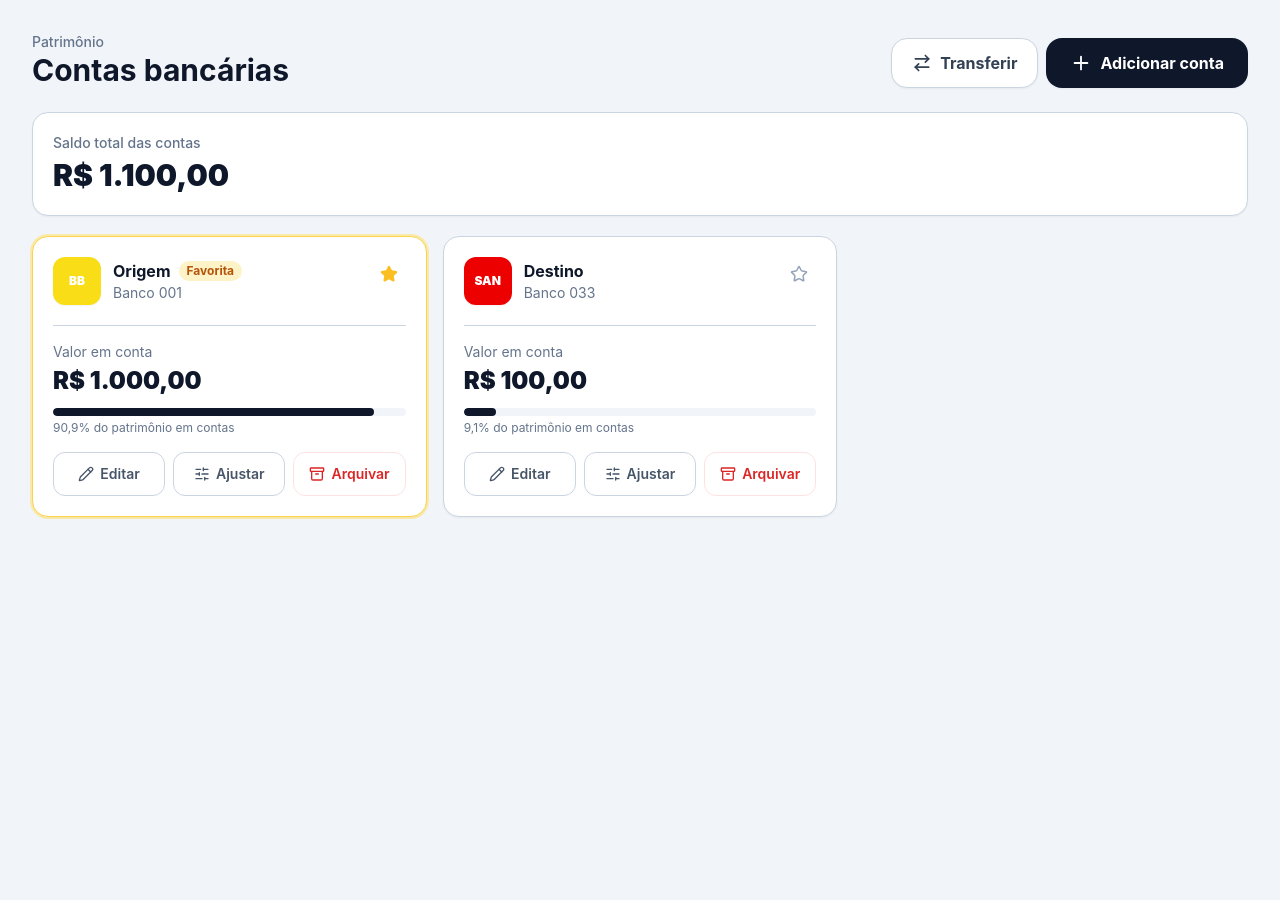
it: AccountsPage › mostra a mensagem do backend quando o saldo e insuficiente
The image size is (1280, 900).
Click the button "Transferir" at (965, 63), box left=891, top=38, right=1038, bottom=88
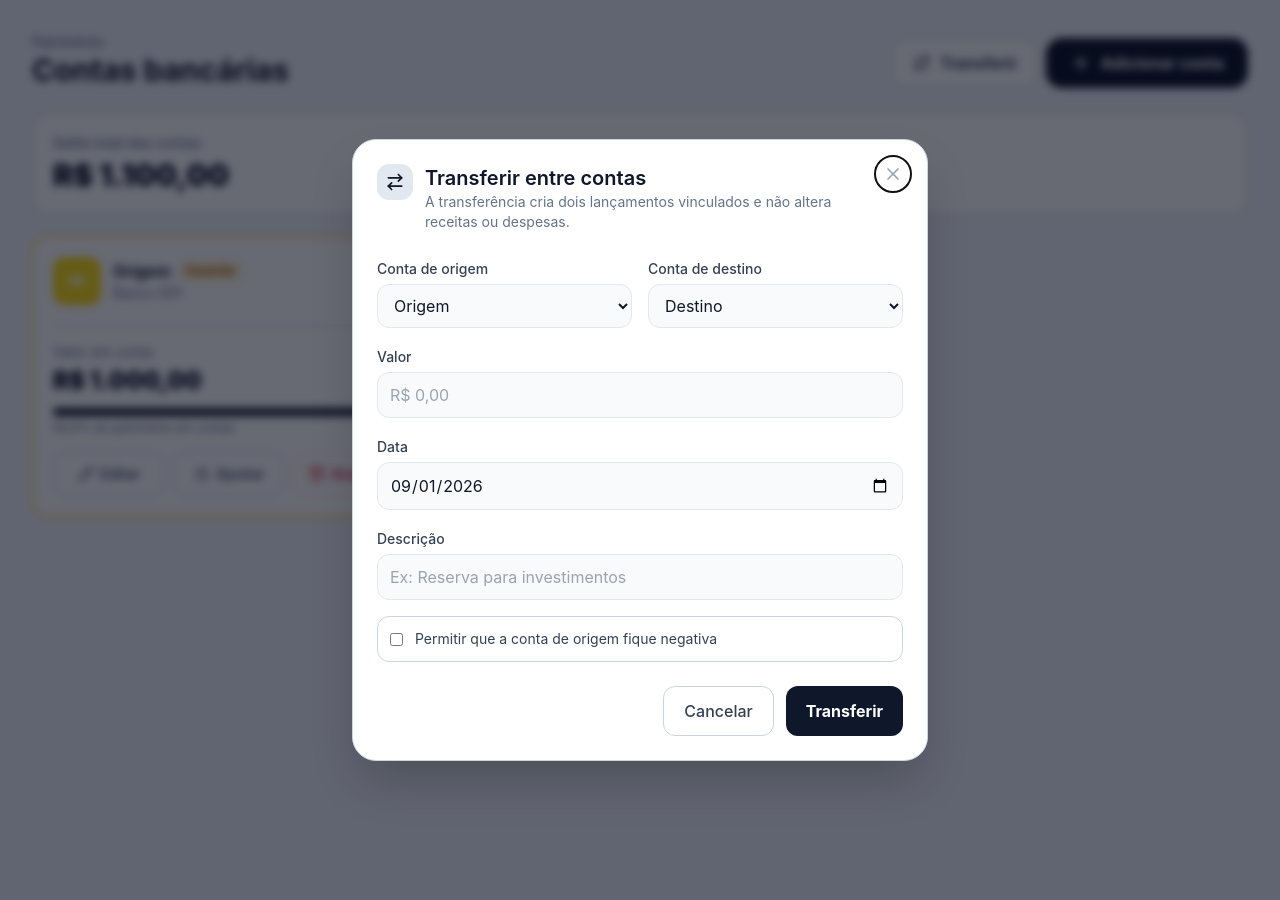
Type "200000" into the field with placeholder "R$ 0,00" at (640, 395), box left=377, top=372, right=903, bottom=418
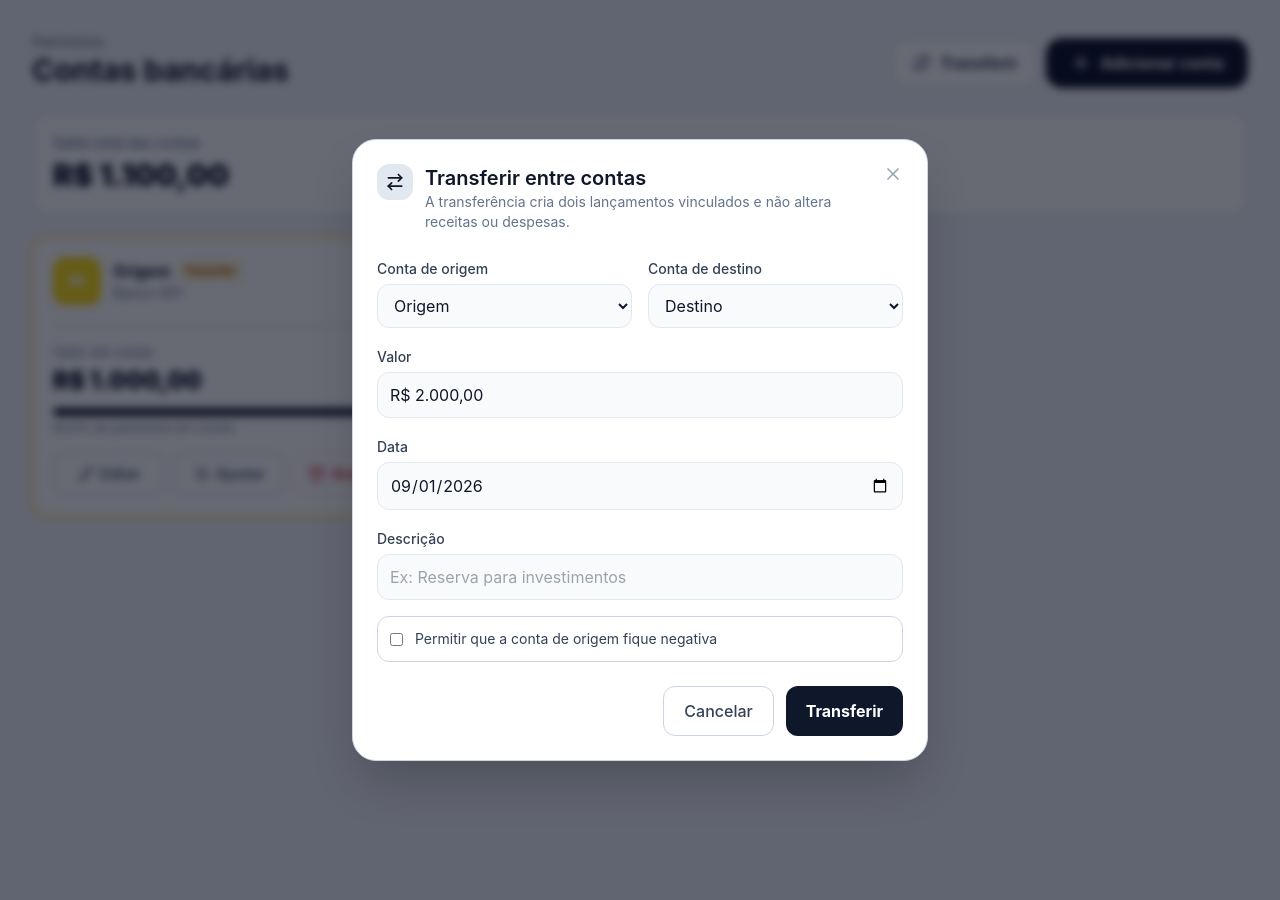
Click the button "Transferir" at (844, 711), box left=786, top=686, right=903, bottom=736
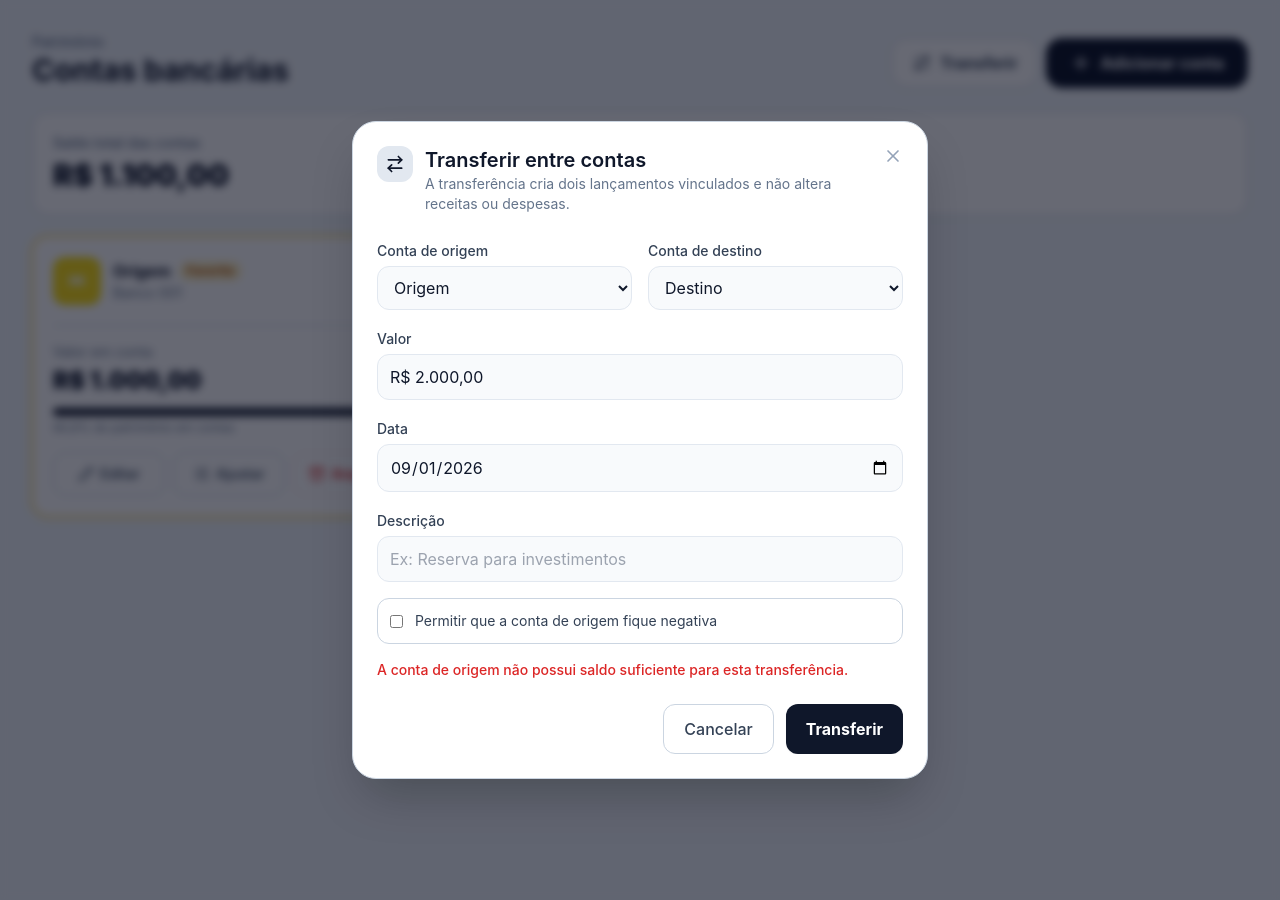
Expected: the text "A conta de origem não possui saldo suficiente para esta transferência." is shown, left=377, top=660, right=903, bottom=680
